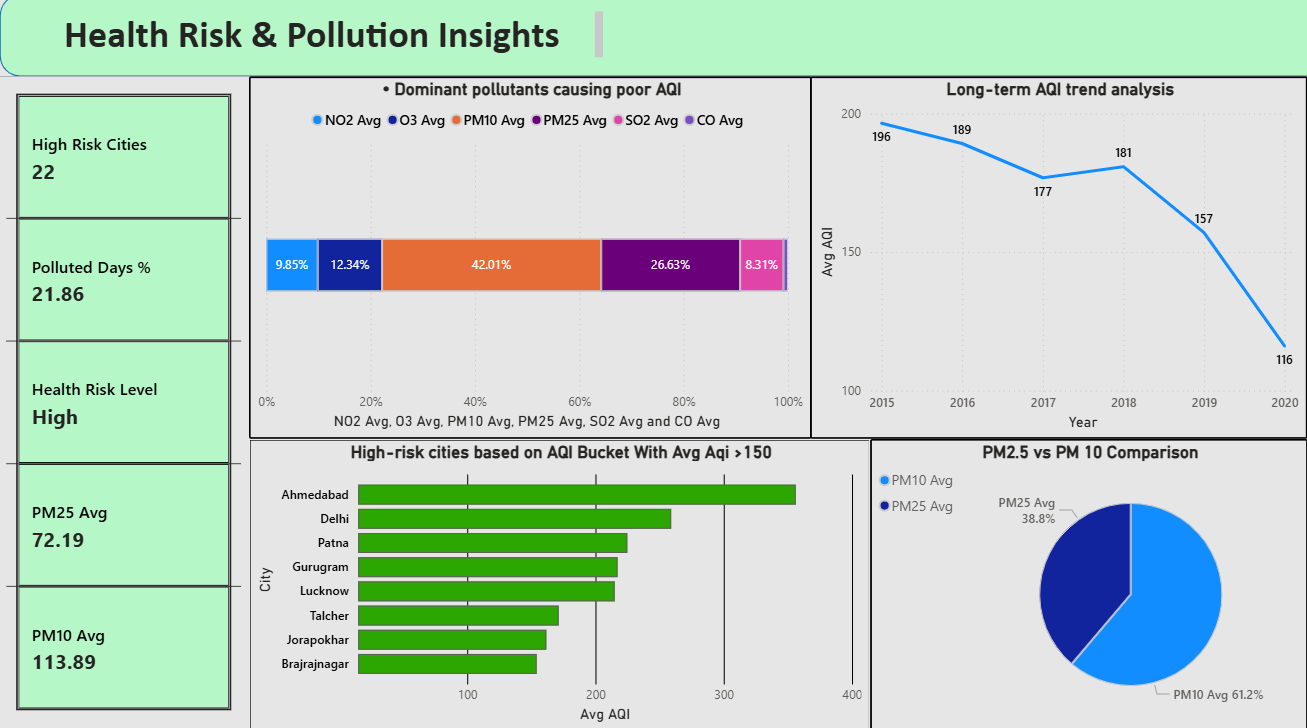

What the dashboard file says about the page in this screenshot:
{"tool":"powerbi","page":{"name":"Health Risk & Pollution Insights","canvas":[1280,720],"ordinal":1},"visuals":[{"type":"shape","box":[0,0,1400.1,81.9],"z":0},{"type":"textbox","box":[24.5,12.2,571.1,55],"z":1000},{"type":"cardVisual","fields":{"Data":["Health Risk & Pollution Insights.High Risk Cities","Health Risk & Pollution Insights.Polluted Days %","Health Risk & Pollution Insights.Health Risk Level","National Air Quality Monitoring Dashboardle.PM25 Avg","National Air Quality Monitoring Dashboardle.PM10 Avg"]},"box":[0,80.7,244.6,639.5],"z":2000},{"type":"barChart","title":"High-risk cities based on AQI Bucket With Avg Aqi >150","fields":{"Category":["AQI_Data.City"],"Y":["National Air Quality Monitoring Dashboardle.Avg AQI"]},"box":[244.3,435,607.9,285.4],"z":3000},{"type":"hundredPercentStackedBarChart","title":"•\tDominant pollutants causing poor AQI","fields":{"Y":["National Air Quality Monitoring Dashboardle.NO2 Avg","National Air Quality Monitoring Dashboardle.O3 Avg","National Air Quality Monitoring Dashboardle.PM10 Avg","National Air Quality Monitoring Dashboardle.PM25 Avg","National Air Quality Monitoring Dashboardle.SO2 Avg","National Air Quality Monitoring Dashboardle.CO Avg"]},"box":[244.3,81,550.3,354],"z":4000},{"type":"lineChart","title":"Long-term AQI trend analysis","fields":{"Y":["National Air Quality Monitoring Dashboardle.Avg AQI"],"Category":["AQI_Data.Date.Variation.Date Hierarchy.Year"]},"box":[794,81,486,354],"z":5000},{"type":"pieChart","title":"PM2.5 vs PM 10 Comparison","fields":{"Y":["National Air Quality Monitoring Dashboardle.PM10 Avg","National Air Quality Monitoring Dashboardle.PM25 Avg"]},"box":[852.3,435.3,428,284.9],"z":6000}]}

Visuals, with their boxes in screenshot pixels (x1, y1, x2, y2), scaled from the page's 1280x720 canvas onto the 1307x728 screenshot:
shape: left=0, top=0, right=1306, bottom=83
textbox: left=25, top=12, right=608, bottom=68
cardVisual - Health Risk & Pollution Insights.High Risk Cities x Health Risk & Pollution Insights.Polluted Days %: left=0, top=82, right=250, bottom=727
"High-risk cities based on AQI Bucket With Avg Aqi >150" barChart: left=249, top=440, right=870, bottom=727
"•	Dominant pollutants causing poor AQI" hundredPercentStackedBarChart: left=249, top=82, right=811, bottom=440
"Long-term AQI trend analysis" lineChart: left=811, top=82, right=1306, bottom=440
"PM2.5 vs PM 10 Comparison" pieChart: left=870, top=440, right=1306, bottom=727
